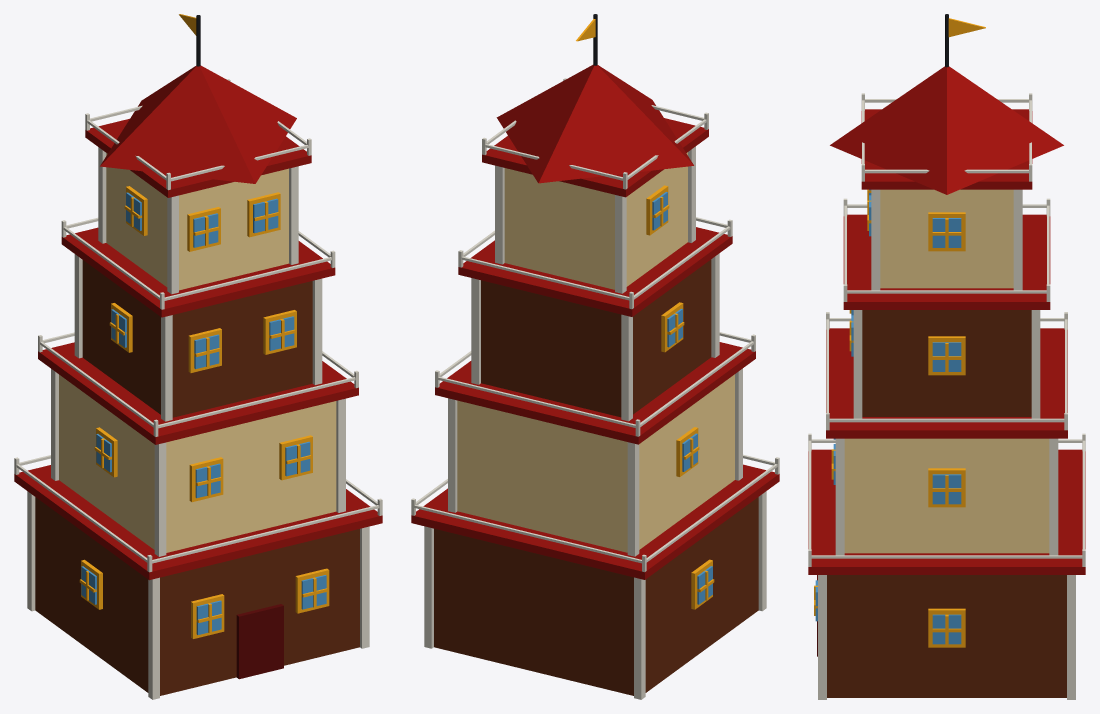
File: HenTower.obj
3 views of the same model, side by side, from view 1: azimuth 30°, elevation 25°; view 2: azimuth 150°, elevation 25°; view 3: azimuth 270°, elevation 25° (orthographic). The views are drawn at different scales.
Parts seen in each view (by area): view 1: HenTower; view 2: HenTower; view 3: HenTower.
Part boxes in pixels (bbox=[...]): HenTower: bbox=[14, 14, 382, 699]; HenTower: bbox=[411, 14, 779, 699]; HenTower: bbox=[808, 14, 1085, 699].
Bounding box in the file's own units: 4.37 × 10.95 × 4.37.
